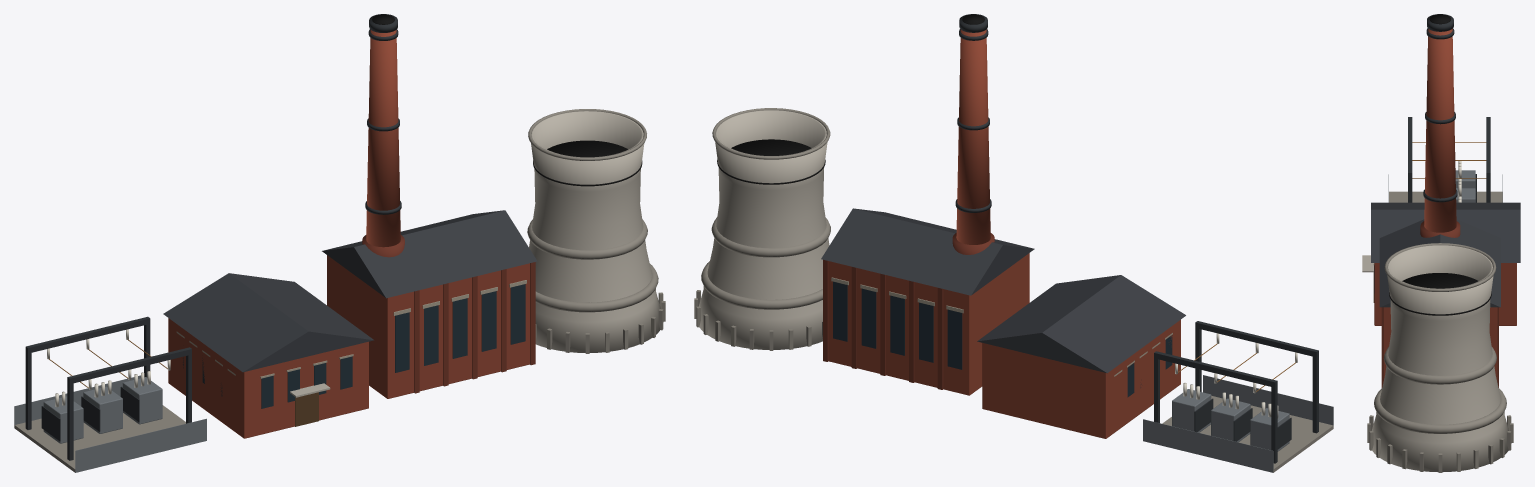
The model's file is usina.glb.
3 views of the same model, side by side, from view 1: azimuth 30°, elevation 25°; view 2: azimuth 150°, elevation 25°; view 3: azimuth 270°, elevation 25° (orthographic). The views are drawn at different scales.
Visible parts, largest first — view 1: torre, corpo, telhado.001, corpo.001, telhado, chamine, cerca, base, mancha, mancha.001, torre_interior, trafo.002 (+12 smaller); view 2: torre, corpo.001, corpo, telhado.001, telhado, chamine, cerca.001, cerca, base, mancha, mancha.001, torre_interior (+12 smaller); view 3: torre, chamine, telhado.001, telhado, mancha, corpo.001, mancha.001, torre_interior, anel_topo, corpo, base, trafo (+9 smaller).
Boxes of the visible parts, x1,y1,x2,y2 form: torre: [529, 111, 660, 352]; corpo: [327, 255, 530, 398]; telhado.001: [163, 273, 373, 372]; corpo.001: [168, 318, 368, 438]; telhado: [322, 210, 537, 298]; chamine: [366, 30, 400, 247]; cerca: [75, 418, 206, 472]; base: [14, 405, 185, 472]; mancha: [535, 263, 658, 312]; mancha.001: [527, 219, 647, 259]; torre_interior: [533, 140, 642, 186]; trafo.002: [122, 377, 162, 424]; torre: [699, 110, 829, 349]; corpo.001: [982, 320, 1180, 438]; corpo: [828, 253, 1029, 395]; telhado.001: [977, 275, 1185, 373]; telhado: [821, 208, 1034, 295]; chamine: [956, 29, 990, 244]; cerca.001: [1143, 419, 1273, 472]; cerca: [1203, 375, 1333, 425]; base: [1162, 395, 1333, 472]; mancha: [701, 261, 822, 309]; mancha.001: [711, 217, 830, 257]; torre_interior: [717, 139, 825, 184]; torre: [1372, 245, 1511, 472]; chamine: [1424, 29, 1456, 232]; telhado.001: [1371, 202, 1520, 262]; telhado: [1379, 219, 1500, 307]; mancha: [1374, 388, 1506, 433]; corpo.001: [1374, 263, 1516, 325]; mancha.001: [1384, 347, 1496, 384]; torre_interior: [1389, 273, 1491, 315]; anel_topo: [1384, 243, 1496, 291]; corpo: [1383, 307, 1497, 381]; base: [1389, 191, 1502, 202]; trafo: [1455, 170, 1475, 188].
Bounding box in the file's own units: 46.12 × 25.57 × 11.1.
